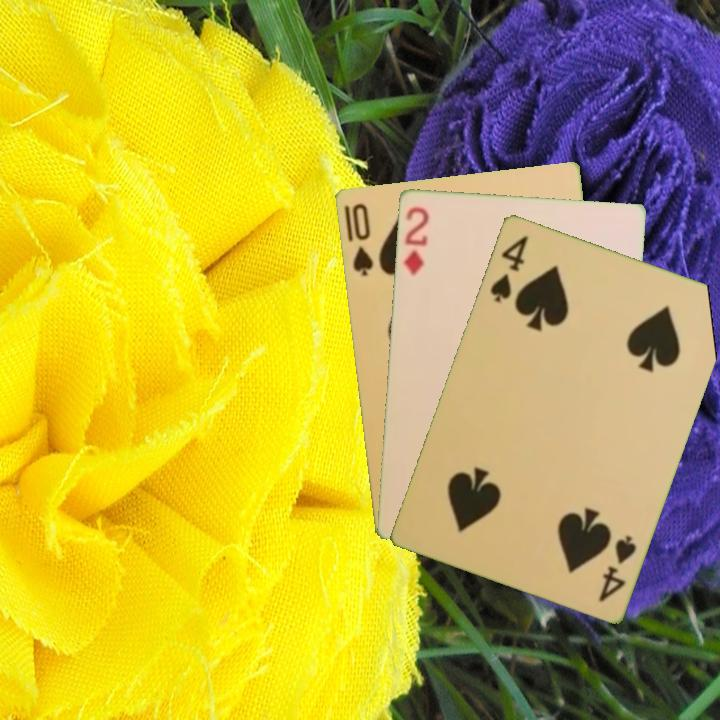10s: (348, 199, 376, 279)
2d: (400, 202, 431, 278)
4s: (486, 231, 531, 305), (595, 531, 639, 605)
